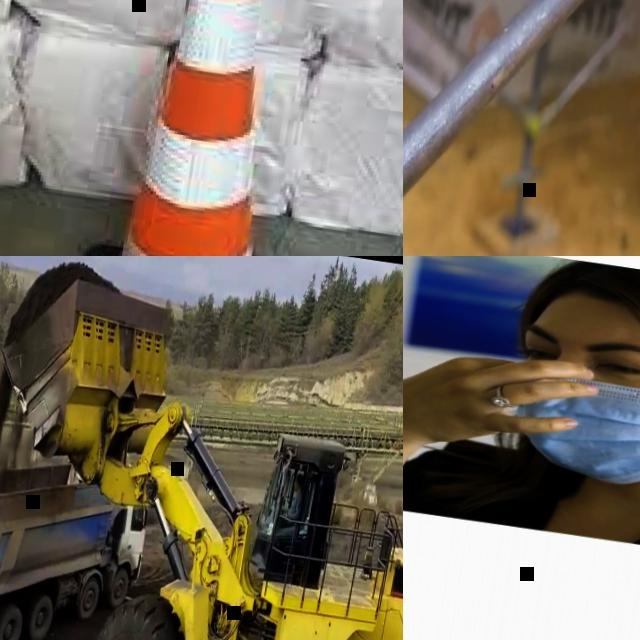Mask: (502, 356, 640, 507)
NO-Hardhat: (525, 256, 640, 366), (296, 475, 304, 484)
NO-Mask: (294, 487, 298, 494)
NO-Safety Vest: (408, 434, 640, 579), (289, 491, 302, 517)
Person: (403, 256, 640, 591), (274, 472, 306, 536)
Safety Cone: (47, 0, 361, 256)
machinery: (0, 259, 403, 640), (0, 429, 157, 640)
